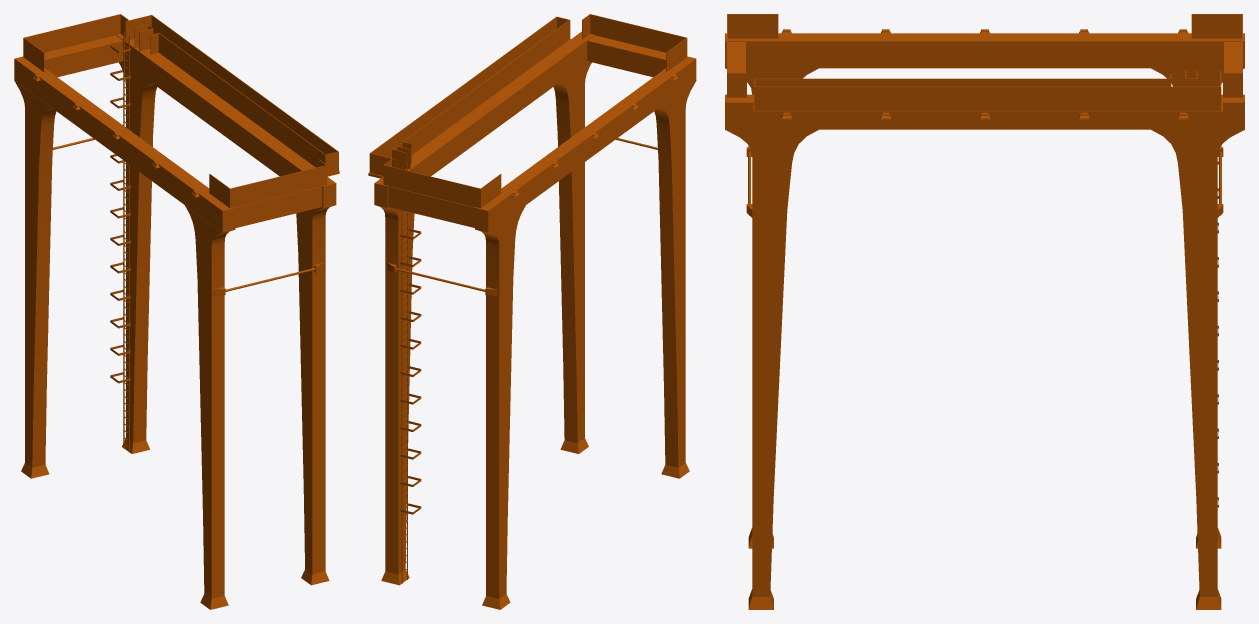
File: GantryCrane.fbx
3 views of the same model, side by side, from view 1: azimuth 30°, elevation 25°; view 2: azimuth 150°, elevation 25°; view 3: azimuth 270°, elevation 25° (orthographic). The views are drawn at different scales.
Visible parts, largest first — view 1: Gantry_Crane_02_Structure_01; view 2: Gantry_Crane_02_Structure_01; view 3: Gantry_Crane_02_Structure_01.
Boxes of the visible parts, x1,y1,x2,y2 form: Gantry_Crane_02_Structure_01: [14, 14, 339, 609]; Gantry_Crane_02_Structure_01: [368, 14, 696, 609]; Gantry_Crane_02_Structure_01: [725, 14, 1244, 609].
Bounding box in the file's own units: 630 × 1860 × 1653.
